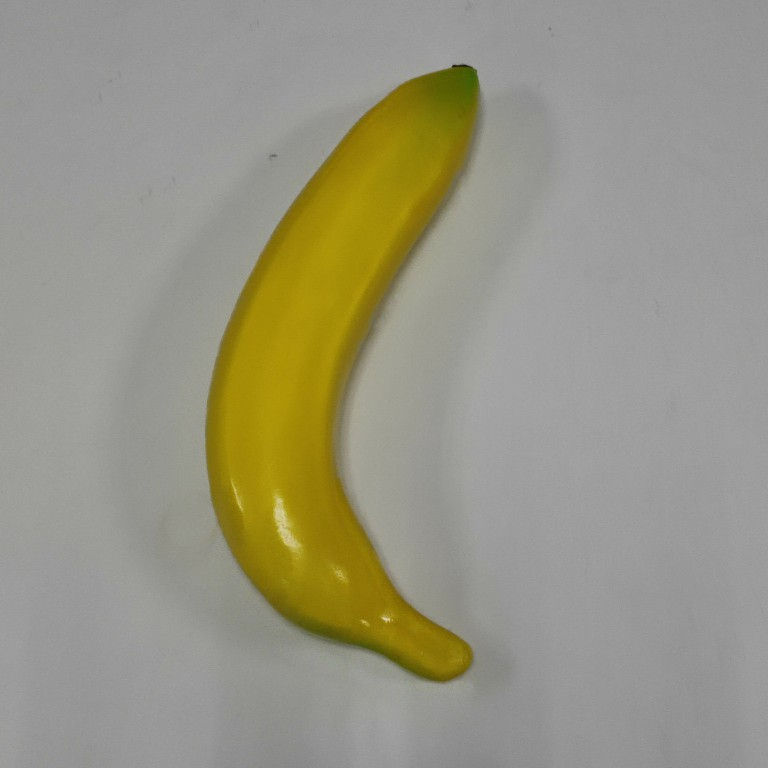fruit_banana: (198, 57, 486, 687)
